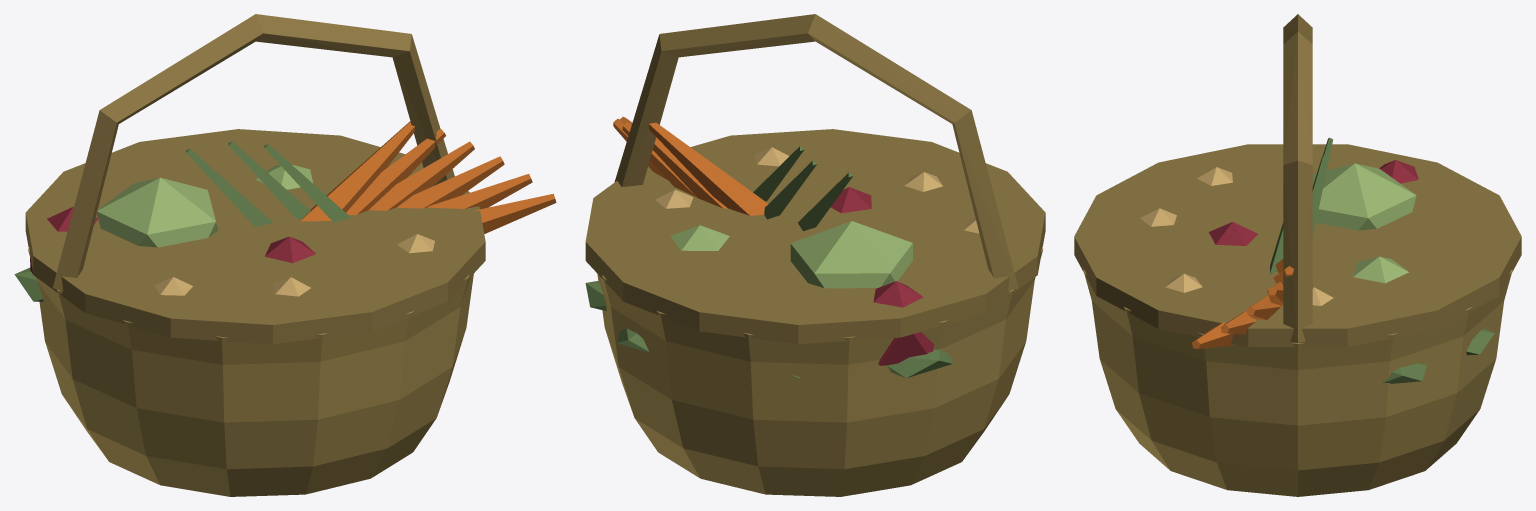
File: veg_basket.glb
3 views of the same model, side by side, from view 1: azimuth 30°, elevation 25°; view 2: azimuth 150°, elevation 25°; view 3: azimuth 270°, elevation 25° (orthographic). The views are drawn at different scales.
Parts seen in each view (by area): view 1: Veg_Basket; view 2: Veg_Basket; view 3: Veg_Basket.
Part boxes in pixels (box(x1,y1,x2,y2)): Veg_Basket: box(14, 14, 556, 496); Veg_Basket: box(585, 14, 1045, 496); Veg_Basket: box(1074, 14, 1521, 496).
Bounding box in the file's own units: 0.6163 × 0.538 × 0.55.
